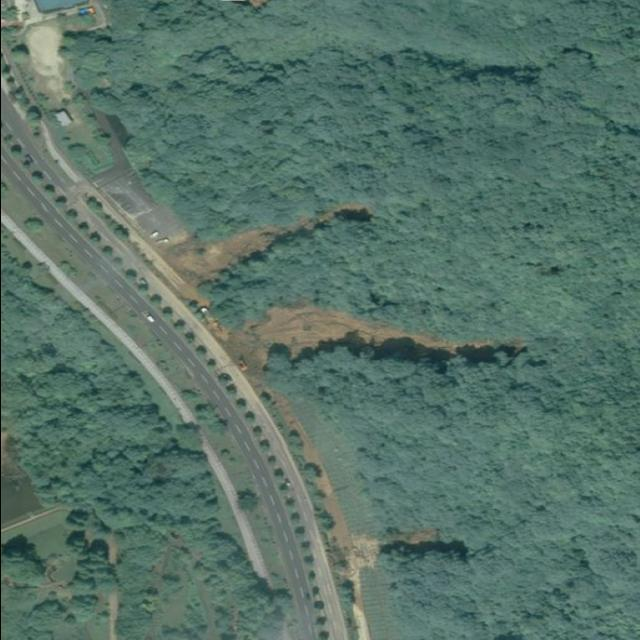landslide: (163, 204, 371, 280), (246, 304, 524, 358), (379, 531, 439, 546)
